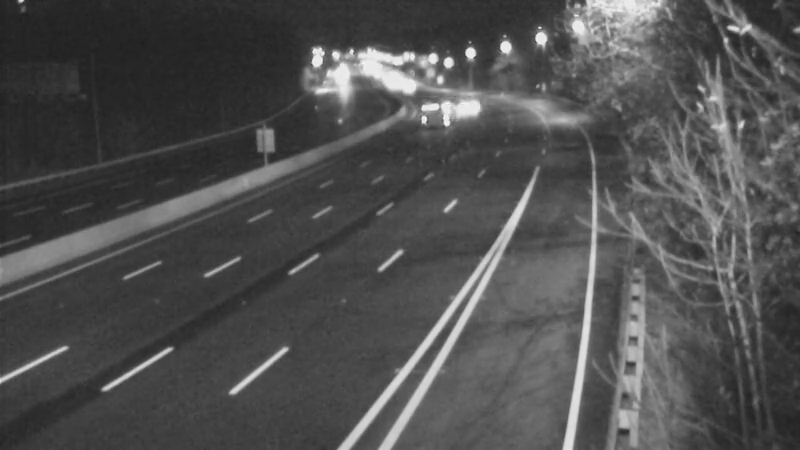vehicle: (445, 84, 495, 134), (417, 83, 467, 133)
